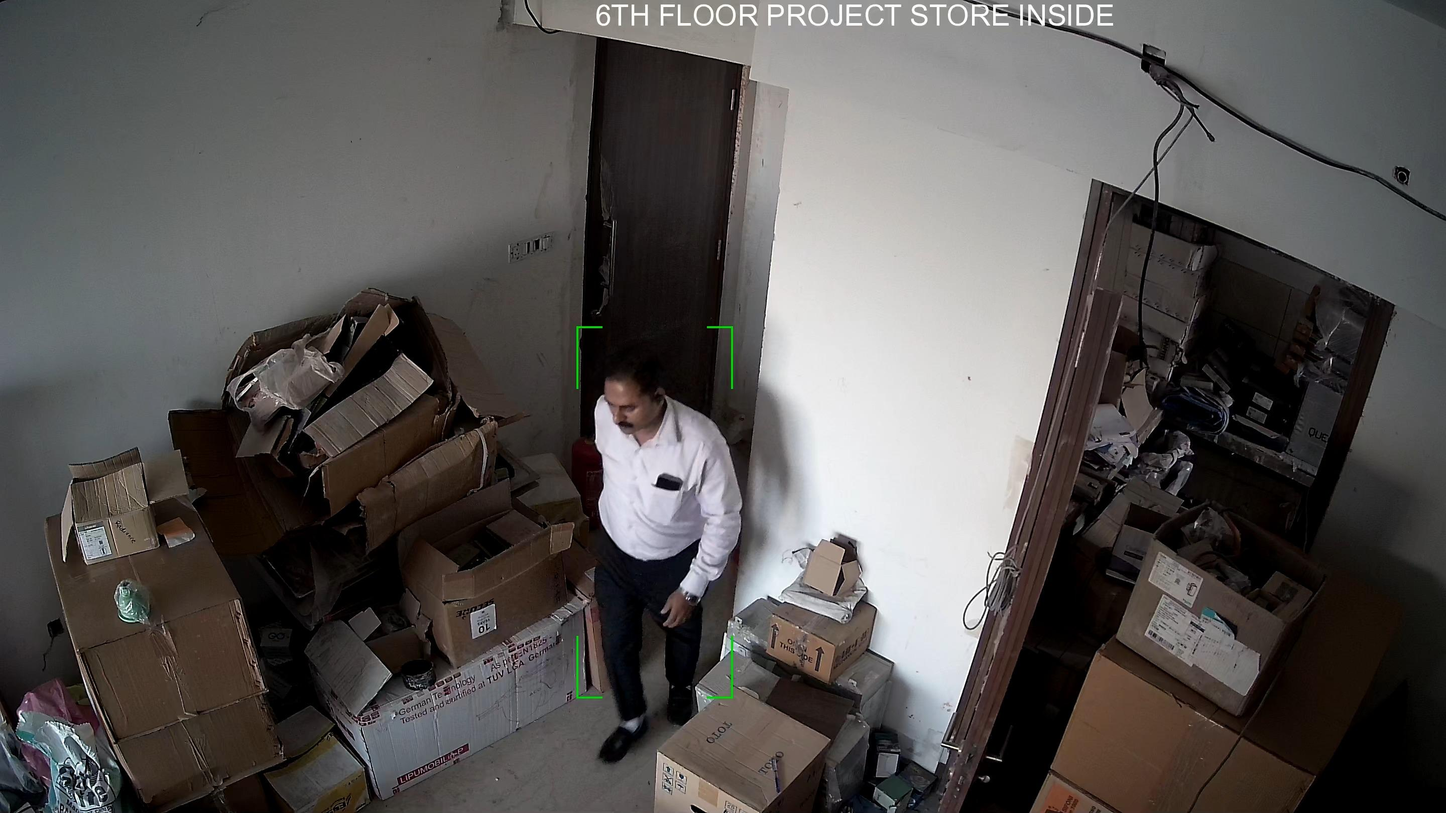Door-Close: (572, 44, 755, 528)
